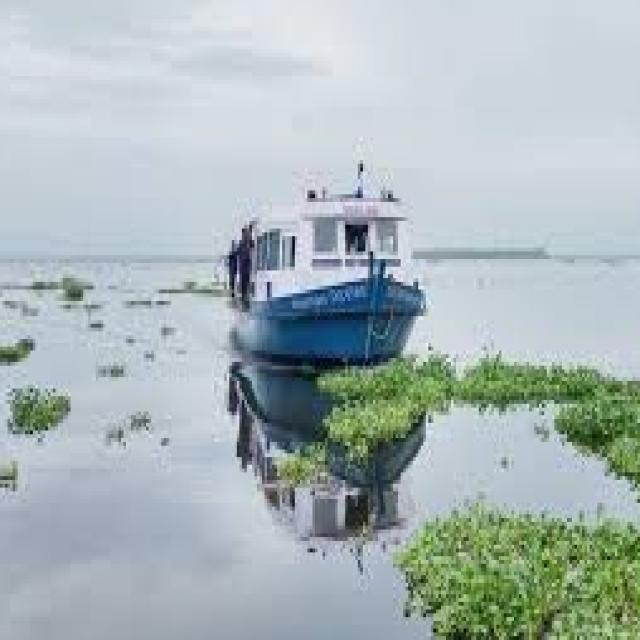houseboat: (224, 140, 438, 401)
